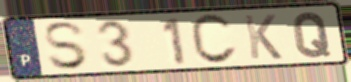1: (160, 16, 187, 66)
3: (95, 18, 137, 70)
C: (188, 12, 240, 67)
K: (241, 13, 285, 61)
Q: (291, 10, 333, 60)
S: (41, 20, 92, 72)
